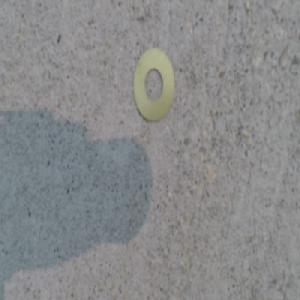Washer: (131, 49, 176, 126)
